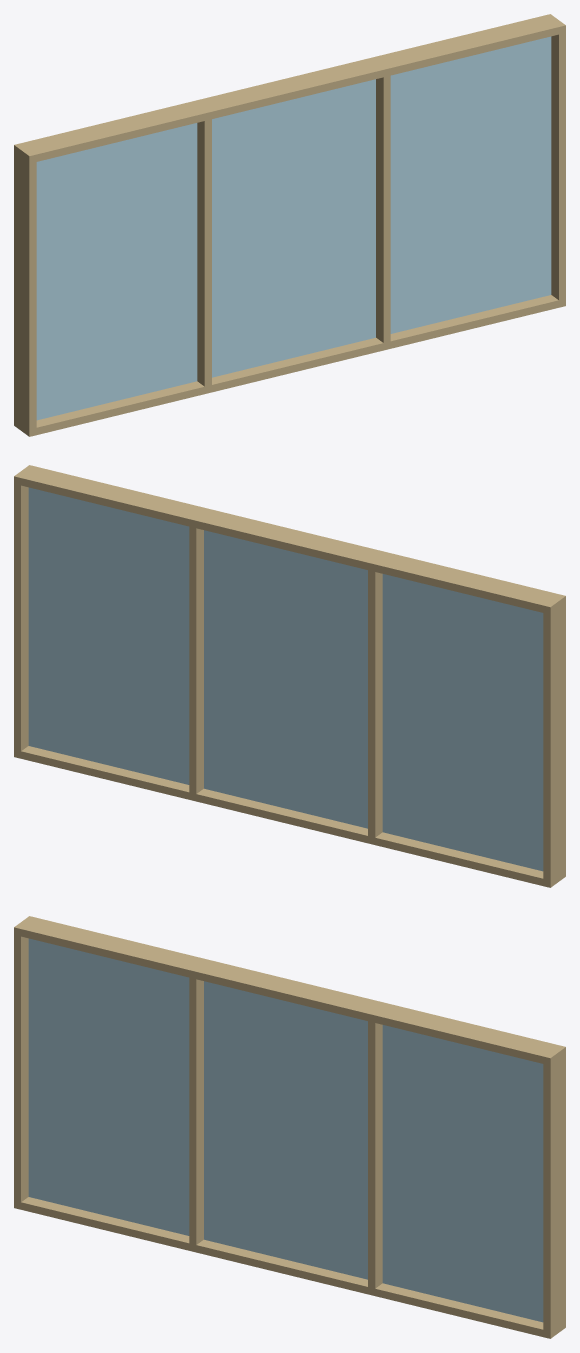
The model's file is janela_300x150.glb.
The picture shows the model from 3 angles, top to bottom: view 1: azimuth 30°, elevation 25°; view 2: azimuth 150°, elevation 25°; view 3: azimuth 330°, elevation 25°; orthographic projection.
Parts seen in each view (by area): view 1: janela_300x150; view 2: janela_300x150; view 3: janela_300x150.
Part boxes in pixels (bbox=[...]): janela_300x150: bbox=[14, 14, 565, 436]; janela_300x150: bbox=[14, 465, 565, 887]; janela_300x150: bbox=[14, 916, 565, 1338].
Size of the model in its own units: 3 by 1.5 by 0.15.
